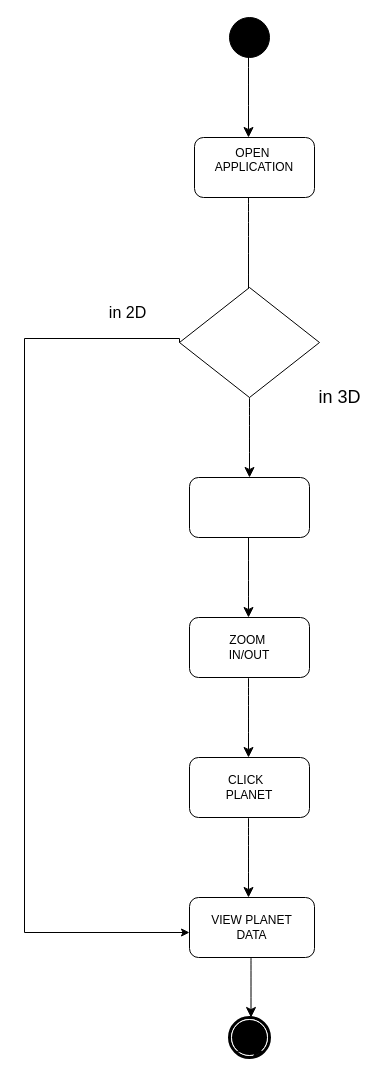
The diagram is 392 pixels wide and 1075 high, and some of its shapes have lost their labels. The shapes that lost their labels are listed below. From the top down, each one's centre as x and y in pixels, then its label:
point (249, 342): SELECT 2D/3D VIEW
point (249, 507): VIEW SOLAR SYSTEM
